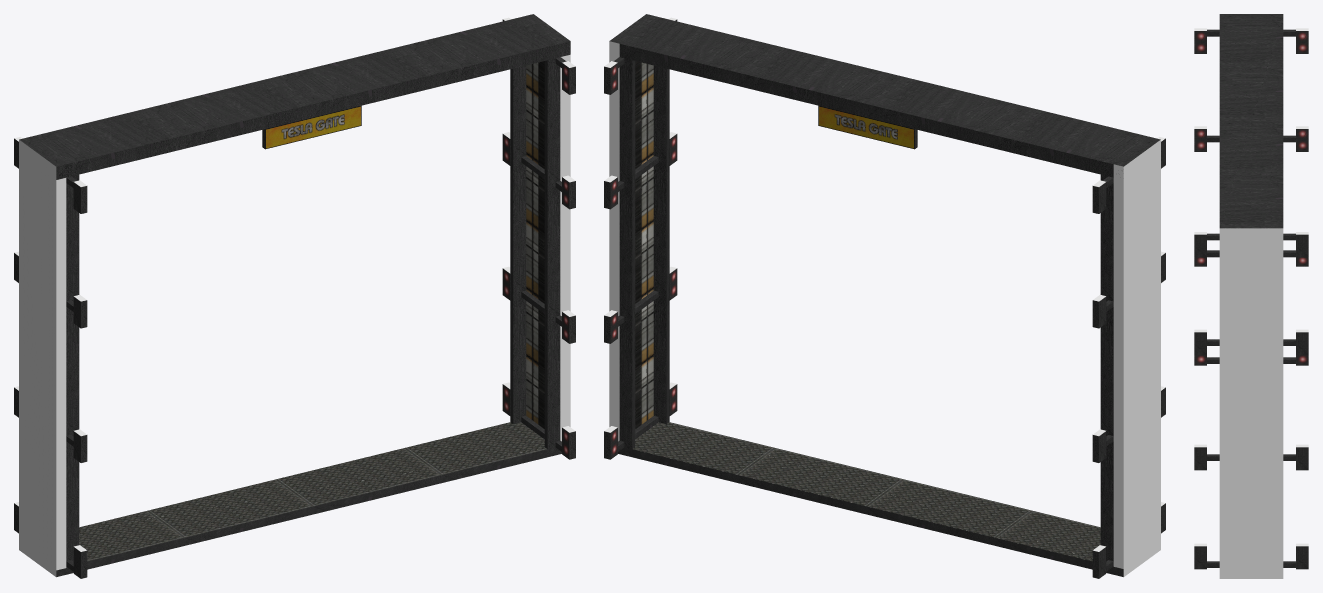
File: TeslaGate.fbx
The picture shows the model from 3 angles, left to right: view 1: azimuth 30°, elevation 25°; view 2: azimuth 150°, elevation 25°; view 3: azimuth 270°, elevation 25°; orthographic projection. The views are drawn at different scales.
Parts seen in each view (by area): view 1: node_id110, node_id120 (×2), node_id117, node_id114 (×2), node_id101, node_id98, node_id107, node_id7; view 2: node_id110, node_id120 (×2), node_id117, node_id114 (×2), node_id98, node_id101, node_id104, node_id4; view 3: node_id114, node_id110, node_id120, node_id13, node_id17, node_id30, node_id34, node_id38, node_id42, node_id46, node_id50, node_id57 (+11 smaller).
Boxes of the visible parts, x1,y1,x2,y2 form: node_id110: [19, 14, 570, 179]; node_id120 (×2): [56, 422, 561, 576]; node_id117: [19, 140, 66, 570]; node_id114 (×2): [526, 54, 570, 441]; node_id101: [544, 58, 560, 452]; node_id98: [510, 65, 526, 424]; node_id107: [66, 174, 79, 570]; node_id7: [265, 105, 361, 149]; node_id110: [609, 14, 1160, 174]; node_id120 (×2): [618, 422, 1123, 576]; node_id117: [1113, 153, 1160, 568]; node_id114 (×2): [609, 41, 653, 441]; node_id98: [619, 46, 635, 449]; node_id101: [653, 65, 669, 424]; node_id104: [1100, 164, 1113, 561]; node_id4: [818, 105, 914, 149]; node_id114: [1219, 228, 1283, 573]; node_id110: [1219, 14, 1283, 228]; node_id120: [1219, 573, 1283, 578]; node_id13: [1194, 234, 1206, 257]; node_id17: [1296, 234, 1308, 257]; node_id30: [1194, 332, 1206, 355]; node_id34: [1296, 332, 1308, 355]; node_id38: [1194, 447, 1206, 470]; node_id42: [1296, 447, 1308, 470]; node_id46: [1194, 546, 1206, 569]; node_id50: [1296, 546, 1308, 569]; node_id57: [1296, 31, 1308, 53].
Bounding box in the file's own units: 0.512 × 0.3904 × 0.1152.
Materials: 86 (54 with a texture image).
